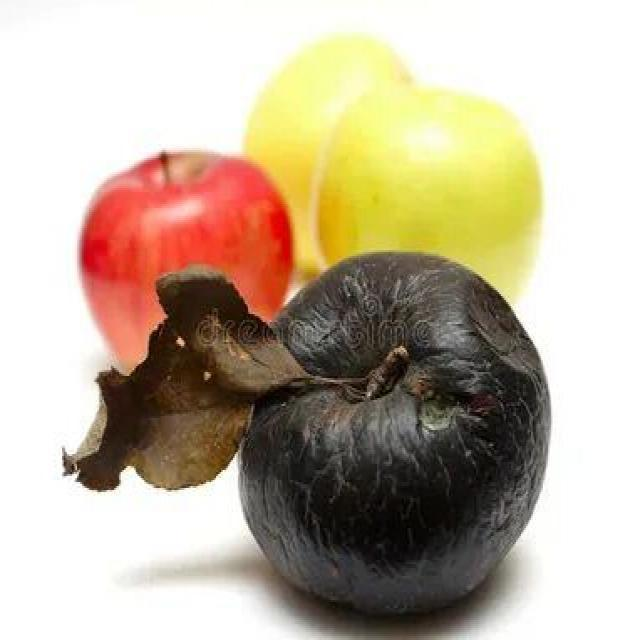Fresh Apple: (323, 87, 537, 250), (79, 143, 278, 272)
Rotten: (254, 258, 544, 615)
